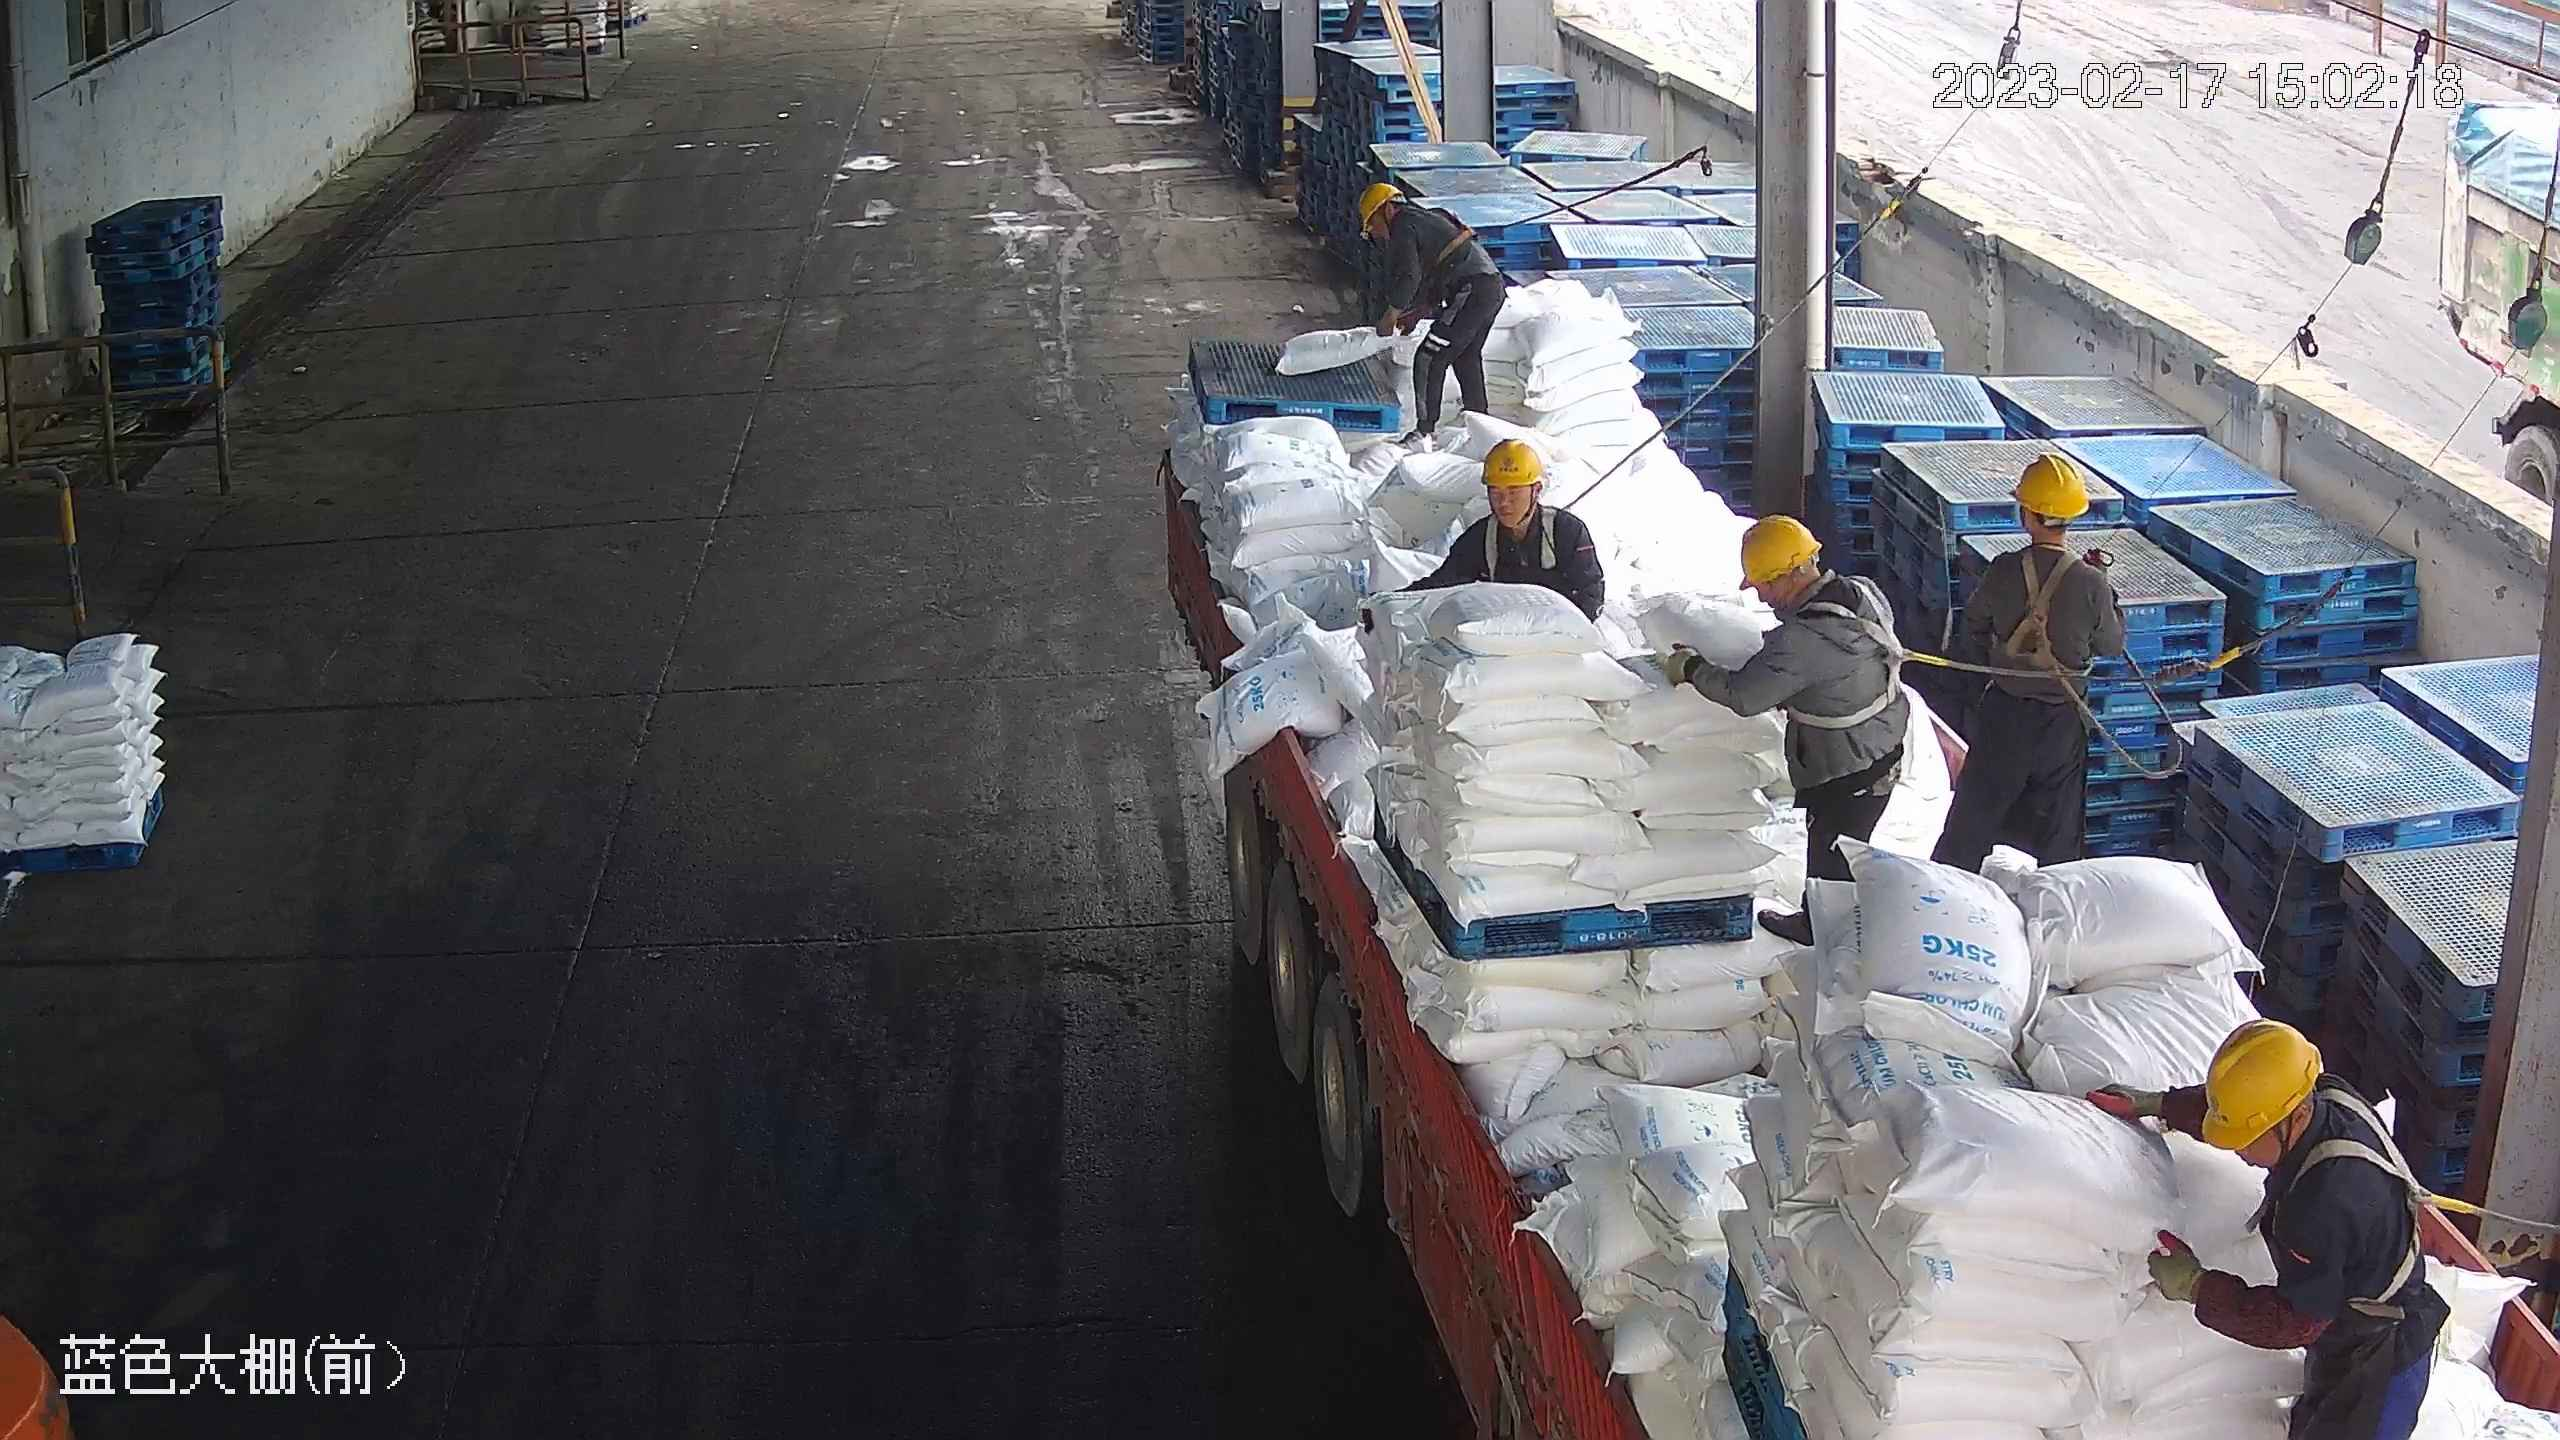belt: (2273, 1080, 2451, 1311), (1781, 580, 1927, 732), (1991, 544, 2108, 678), (1479, 502, 1559, 584), (1401, 199, 1481, 269)
head: (2195, 1018, 2423, 1230), (1732, 514, 1903, 673), (1970, 447, 2121, 615), (1447, 436, 1593, 565), (1360, 181, 1452, 260)
helmet: (2197, 1018, 2325, 1149), (1736, 513, 1825, 588), (2011, 446, 2093, 520), (1481, 436, 1544, 487), (1360, 181, 1404, 232)
people: (2082, 1018, 2455, 1438), (1667, 509, 1912, 927), (1940, 447, 2120, 883), (1357, 180, 1512, 443)
truck: (1133, 164, 2544, 1431)
